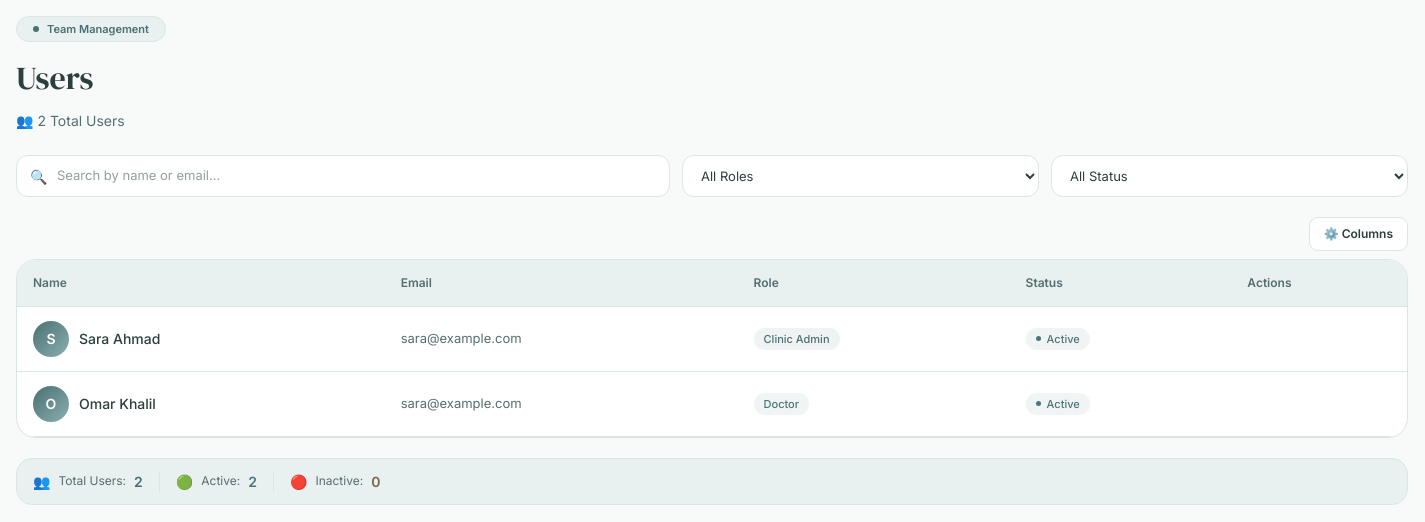
Scenario: Users › filters the list by role
The image size is (1425, 522).
Expected: the text "Sara Ahmad" is shown, [79, 328, 160, 349]
Select "Doctor" in the 1st dropdown at (860, 176), box [682, 155, 1039, 197]
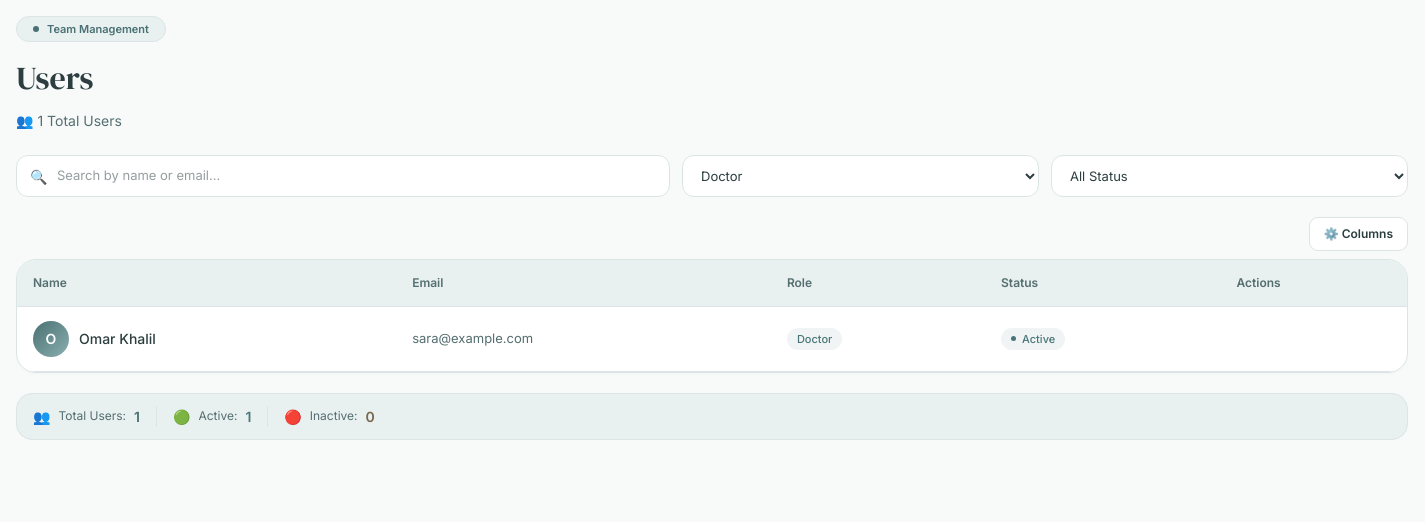
Expected: the text "Omar Khalil" is shown, [79, 328, 156, 349]
Expected: the text "Sara Ahmad" is gone
